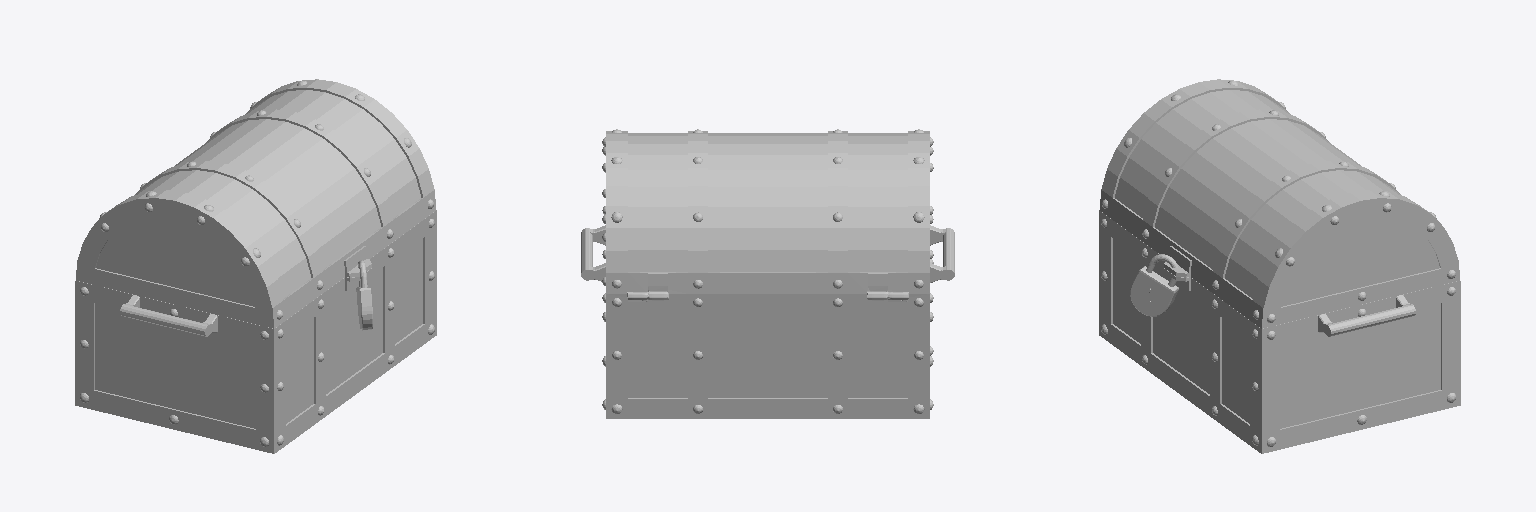
Rendered from chest.obj.
The picture shows the model from 3 angles: view 1: azimuth 30°, elevation 25°; view 2: azimuth 150°, elevation 25°; view 3: azimuth 270°, elevation 25°; orthographic projection.
Visible parts, largest first — view 1: top_default, side_panels_default, frametop_default, framebottom_default, chest_default, rivets_default, lock_default; view 2: top_default, framebottom_default, chest_default, frametop_default, rivets_default; view 3: top_default, side_panels_default, frametop_default, framebottom_default, chest_default, rivets_default, lock_default.
Part boxes in pixels (bbox=[...]): top_default: bbox=[135, 90, 420, 298]; side_panels_default: bbox=[95, 217, 255, 428]; frametop_default: bbox=[76, 79, 435, 328]; framebottom_default: bbox=[75, 210, 436, 453]; chest_default: bbox=[286, 238, 422, 423]; rivets_default: bbox=[80, 81, 434, 446]; lock_default: bbox=[356, 260, 372, 330]; top_default: bbox=[628, 133, 907, 271]; framebottom_default: bbox=[581, 225, 954, 418]; chest_default: bbox=[628, 312, 907, 397]; frametop_default: bbox=[606, 131, 929, 300]; rivets_default: bbox=[602, 129, 933, 413]; top_default: bbox=[1115, 90, 1400, 298]; side_panels_default: bbox=[1280, 217, 1440, 428]; frametop_default: bbox=[1100, 79, 1459, 328]; framebottom_default: bbox=[1099, 210, 1460, 453]; chest_default: bbox=[1113, 238, 1249, 423]; rivets_default: bbox=[1101, 81, 1455, 446]; lock_default: bbox=[1130, 254, 1178, 316].
Bounding box in the file's own units: 3.52 × 2.25 × 3.21.